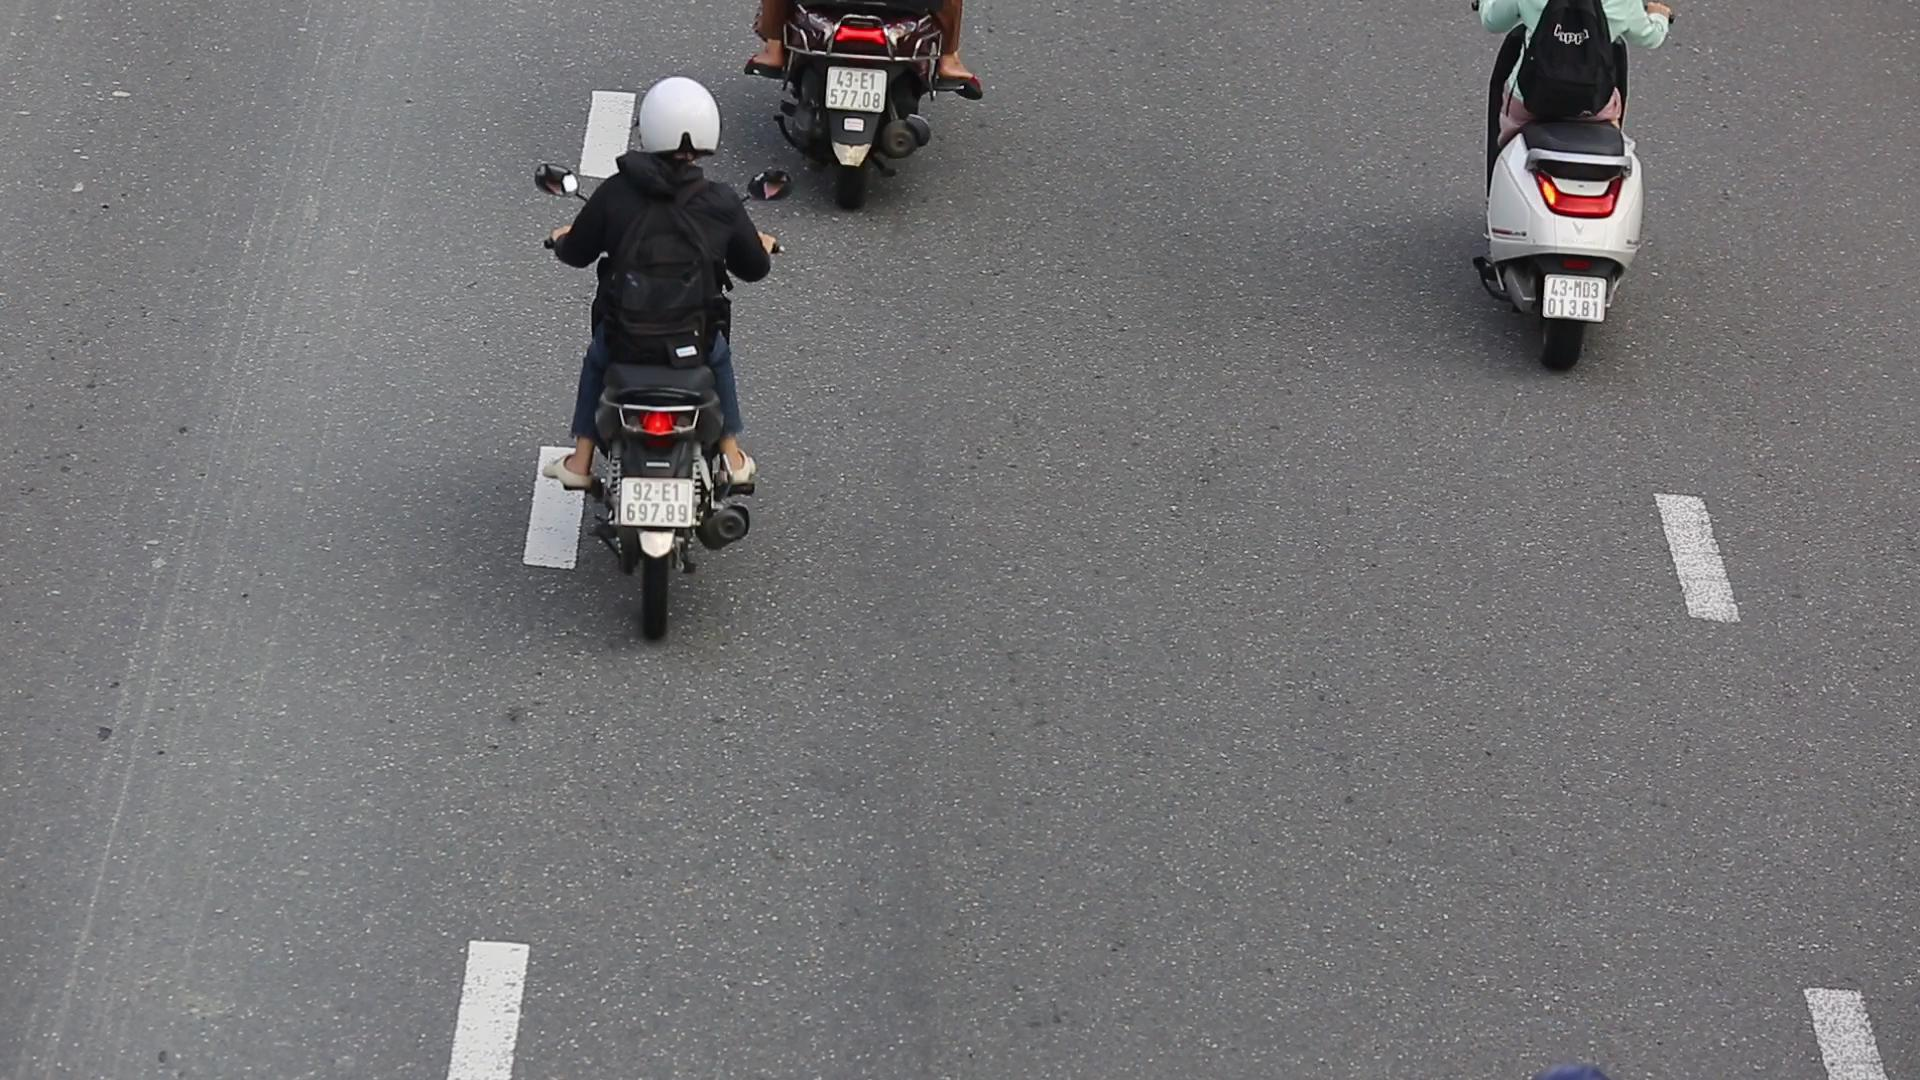motobike: (530, 54, 778, 662)
